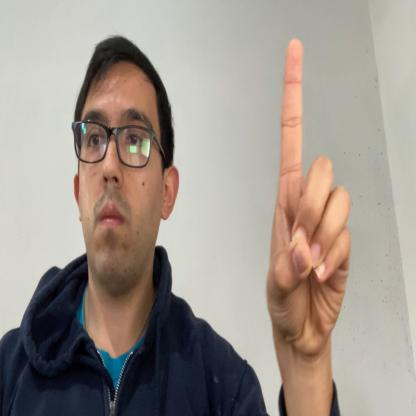D: (266, 36, 350, 353)
